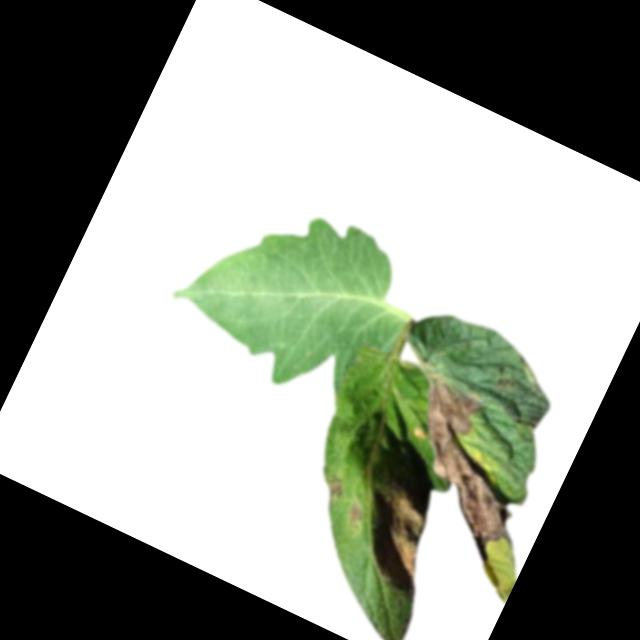Late_blight: (366, 371, 563, 569), (348, 476, 454, 596), (319, 472, 350, 503), (339, 498, 366, 531)
